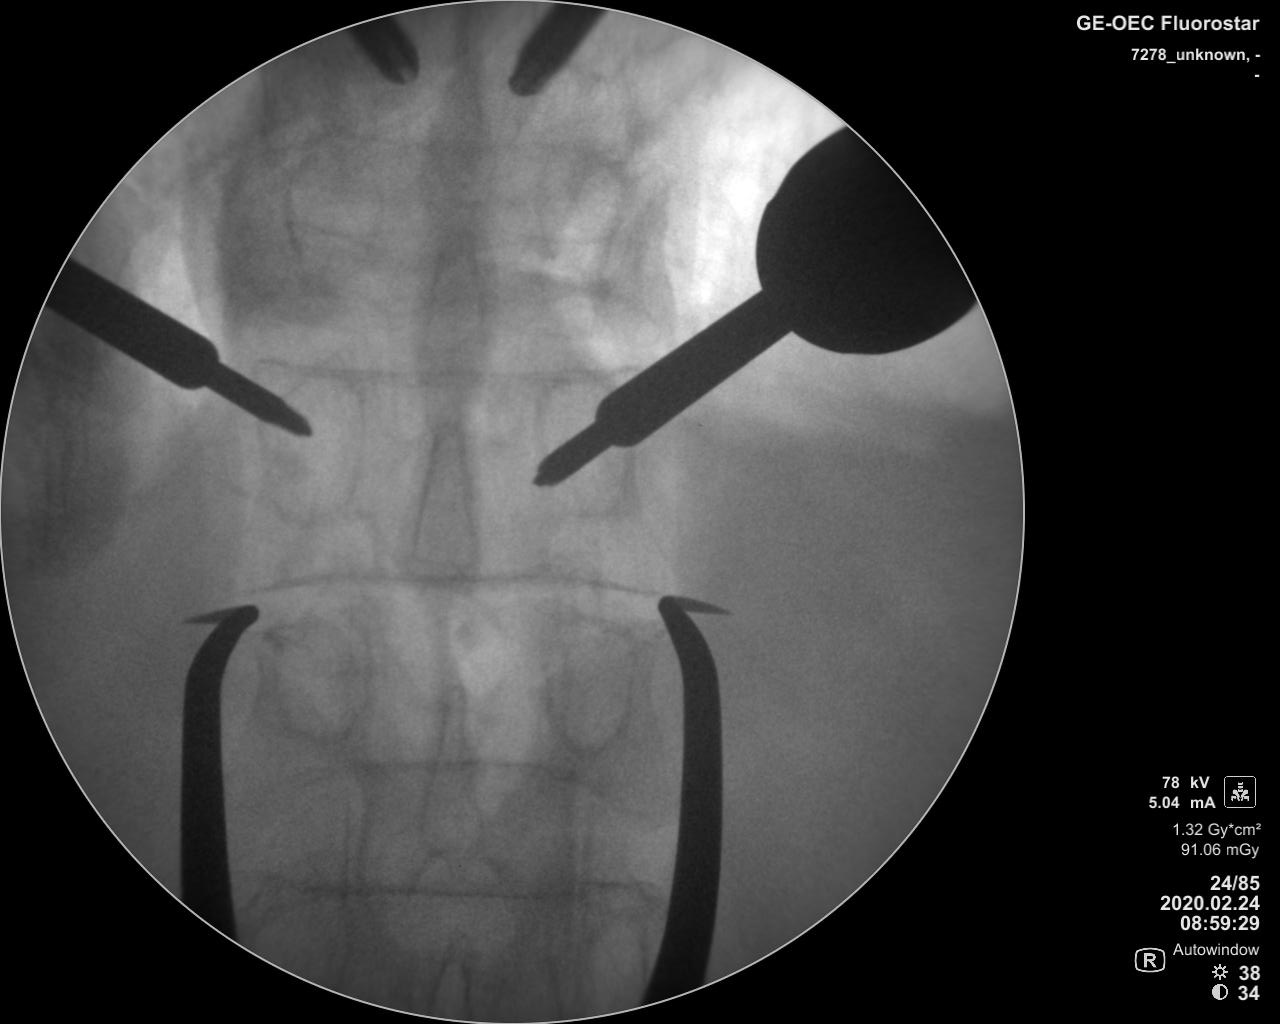eyes: (260, 374, 369, 527), (535, 607, 634, 760), (263, 615, 373, 744), (282, 142, 386, 277), (533, 370, 625, 519), (536, 158, 623, 282)
line: (260, 348, 628, 386), (224, 574, 656, 604), (264, 877, 607, 907), (257, 761, 602, 790)
nose: (399, 420, 481, 585), (417, 669, 487, 859), (425, 32, 488, 229), (419, 224, 484, 405)
